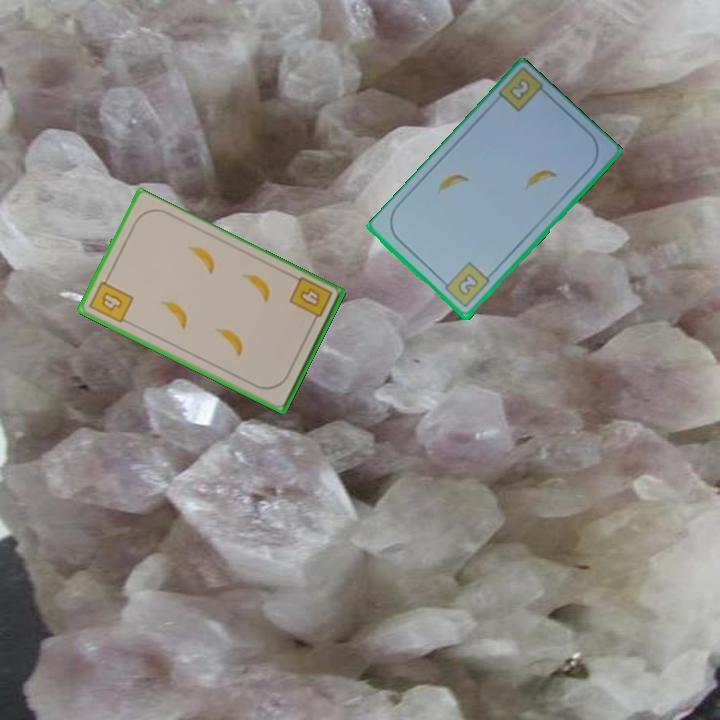2b: (438, 259, 493, 311), (506, 75, 534, 104)
4b: (85, 273, 137, 326), (285, 274, 335, 328)
